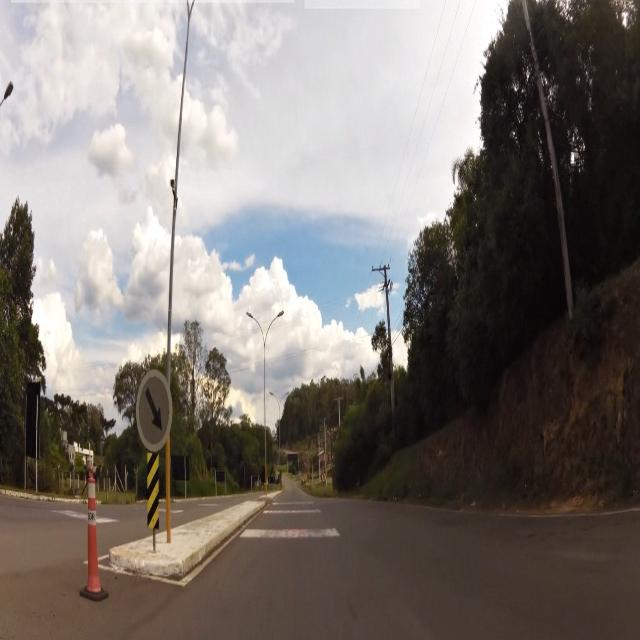R-24b: (130, 360, 175, 461)
